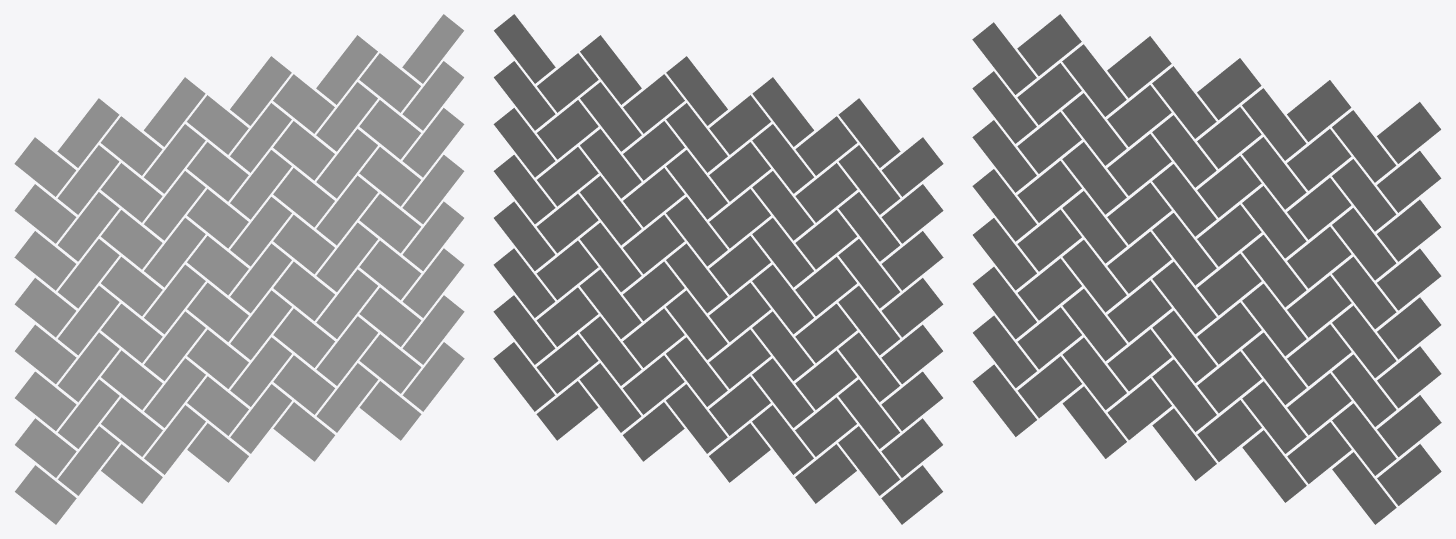
File: smallherringbone.gltf
The picture shows the model from 3 angles, left to right: view 1: azimuth 30°, elevation 25°; view 2: azimuth 150°, elevation 25°; view 3: azimuth 330°, elevation 25°; orthographic projection. The views are drawn at different scales.
Visible parts, largest first — view 1: smallherringbone; view 2: smallherringbone; view 3: smallherringbone.
Boxes of the visible parts, bbox=[...] form: smallherringbone: bbox=[14, 14, 464, 524]; smallherringbone: bbox=[493, 14, 943, 524]; smallherringbone: bbox=[972, 14, 1441, 524].
Size of the model in its own units: 302 by 267 by 0.
Materials: 80 (80 with a texture image).
